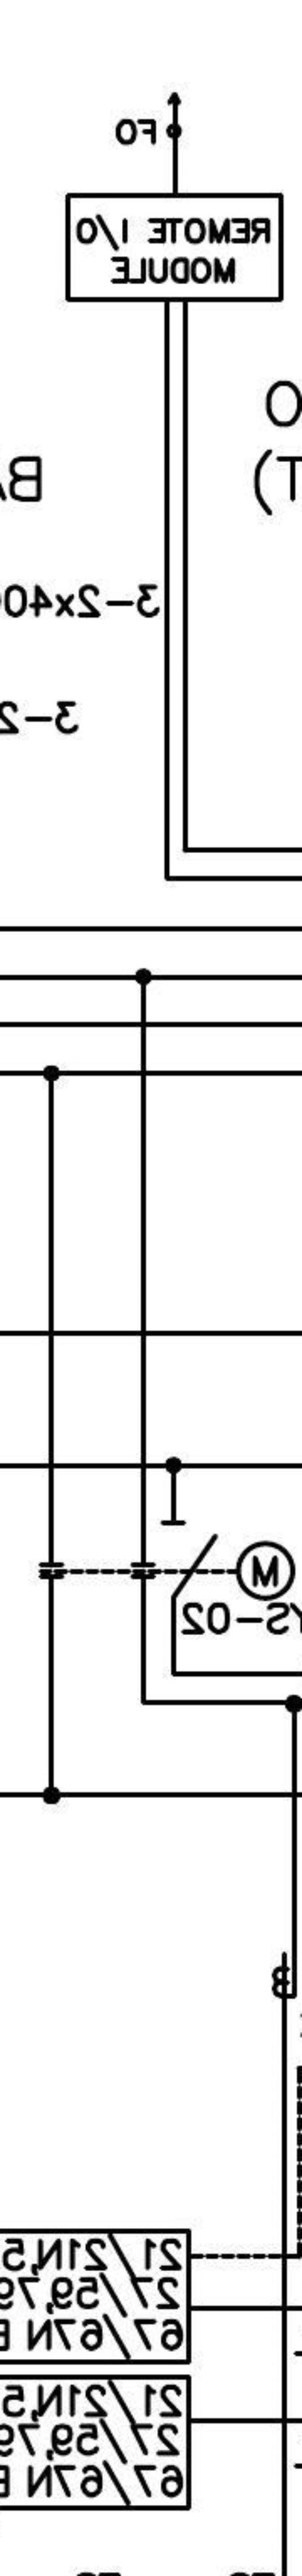115_1way_ds_w_motor: (159, 1520, 297, 1602)
remote_io_module: (66, 192, 286, 304)
